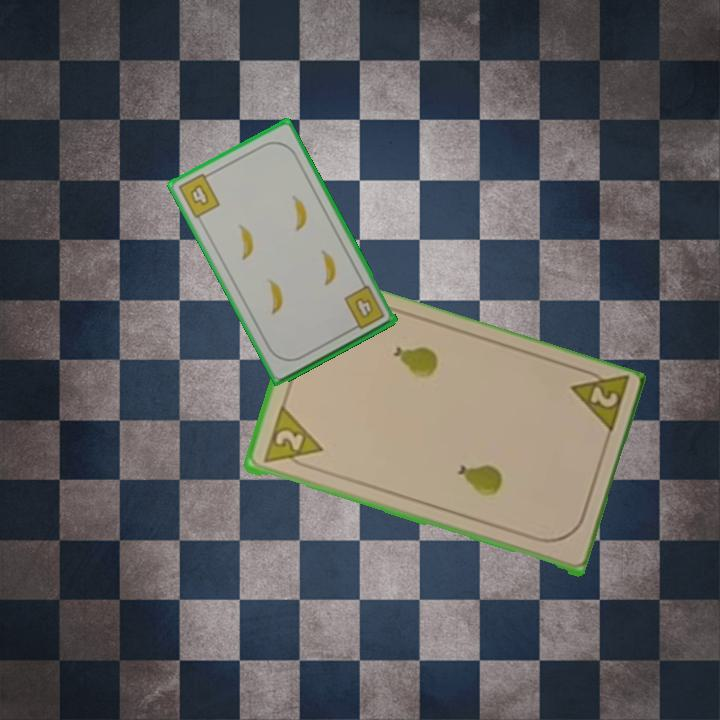2p: (566, 363, 631, 439), (259, 405, 325, 472)
4b: (174, 168, 223, 221), (340, 282, 388, 334)
